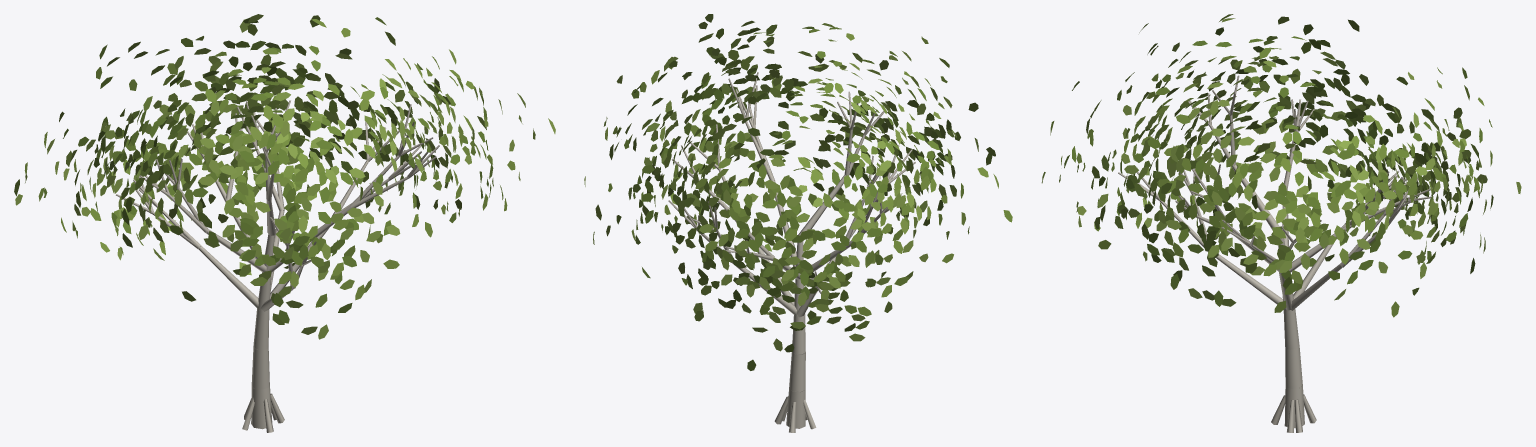
Rendered from birch_2.glb.
The picture shows the model from 3 angles, left to right: view 1: azimuth 30°, elevation 25°; view 2: azimuth 150°, elevation 25°; view 3: azimuth 270°, elevation 25°; orthographic projection. The views are drawn at different scales.
Visible parts, largest first — view 1: birch_2_LOD0; view 2: birch_2_LOD0; view 3: birch_2_LOD0.
Part boxes in pixels (bbox=[...]): birch_2_LOD0: bbox=[14, 14, 555, 432]; birch_2_LOD0: bbox=[584, 14, 1012, 432]; birch_2_LOD0: bbox=[1041, 14, 1521, 432].
Size of what is drawn, in the model's own units: 2.23 by 1.85 by 2.04.
